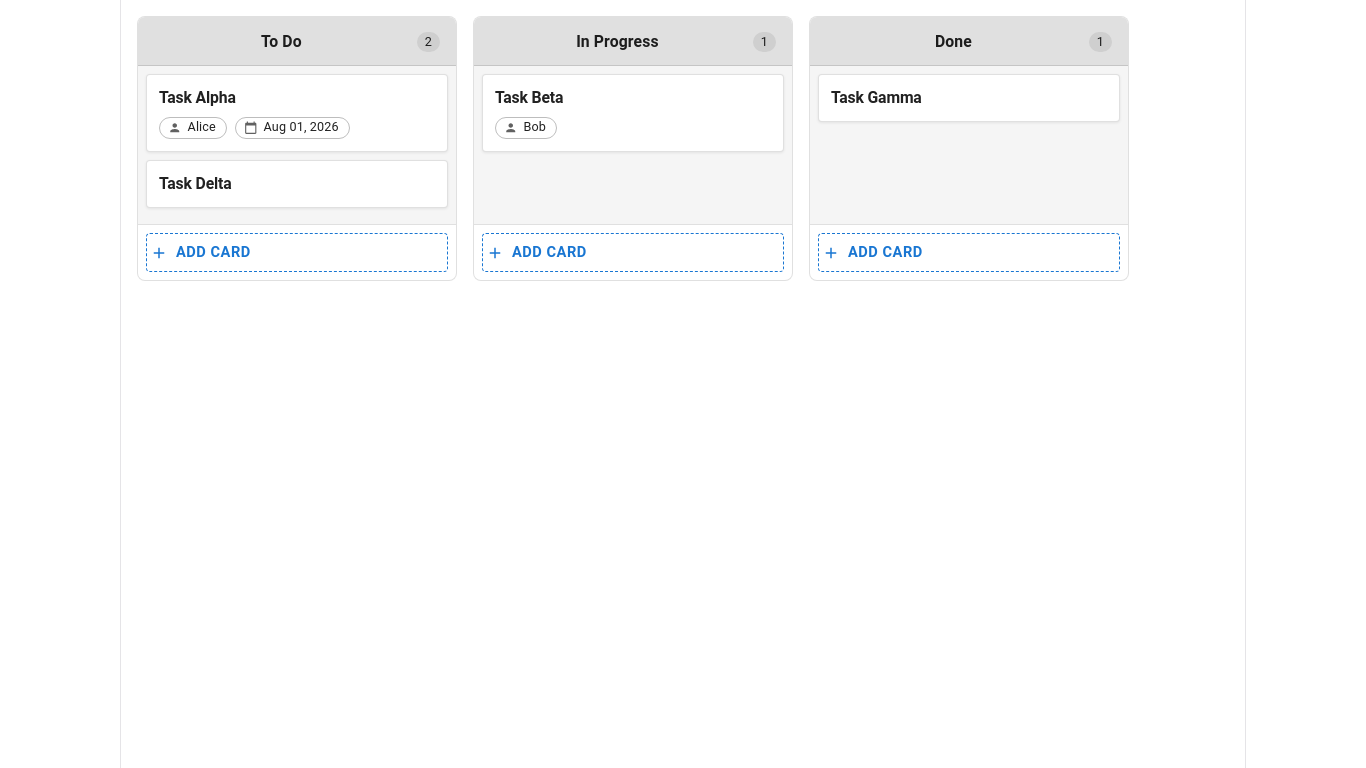
Test case: KanbanBoard › opens Edit dialog when a card is clicked
The width and height of the screenshot is (1366, 768).
Click the text "Task Alpha" at (197, 98), box [159, 87, 236, 109]
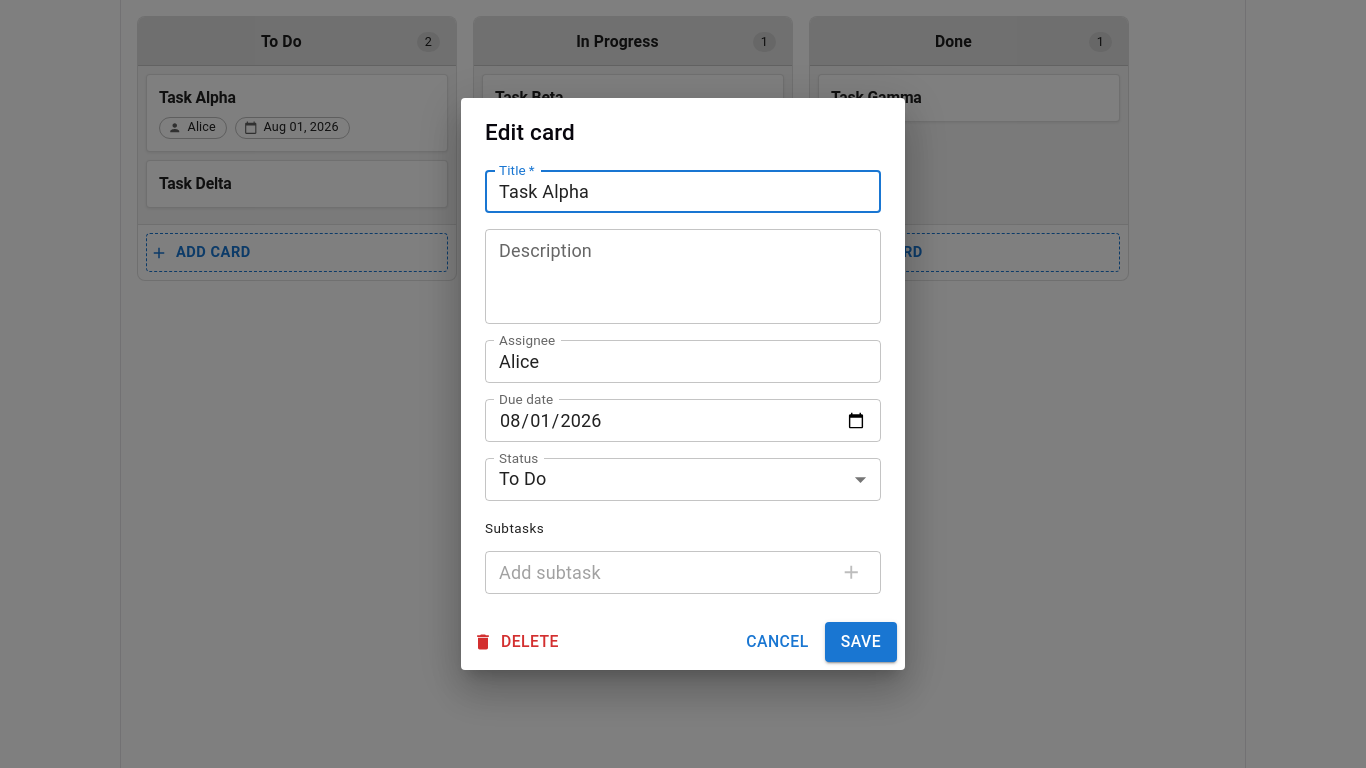
Expected: the dialog is shown, [461, 98, 905, 670]
Expected: the heading "Edit card" is shown, [485, 119, 575, 145]
